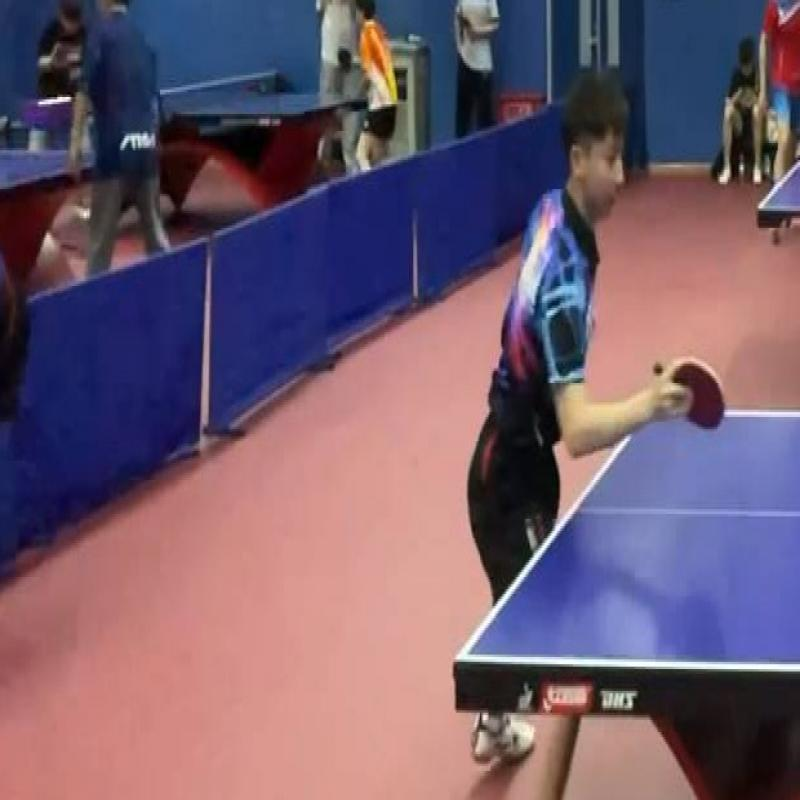bats: (646, 335, 737, 446)
